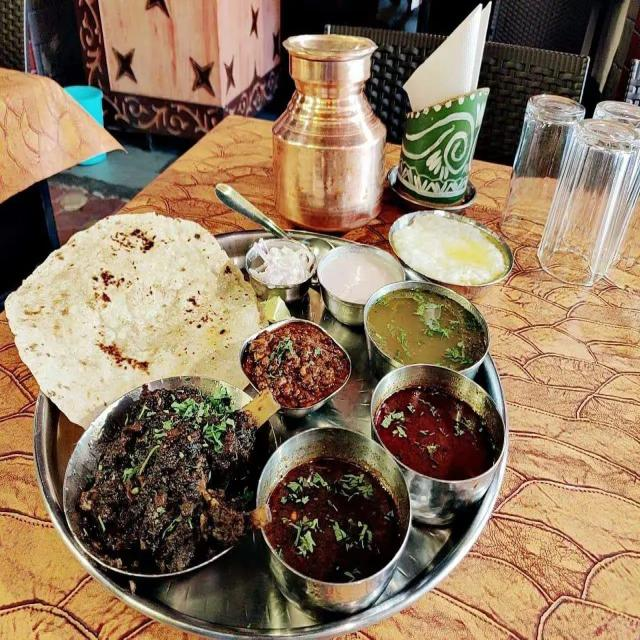non veg meals: (0, 180, 527, 618)
